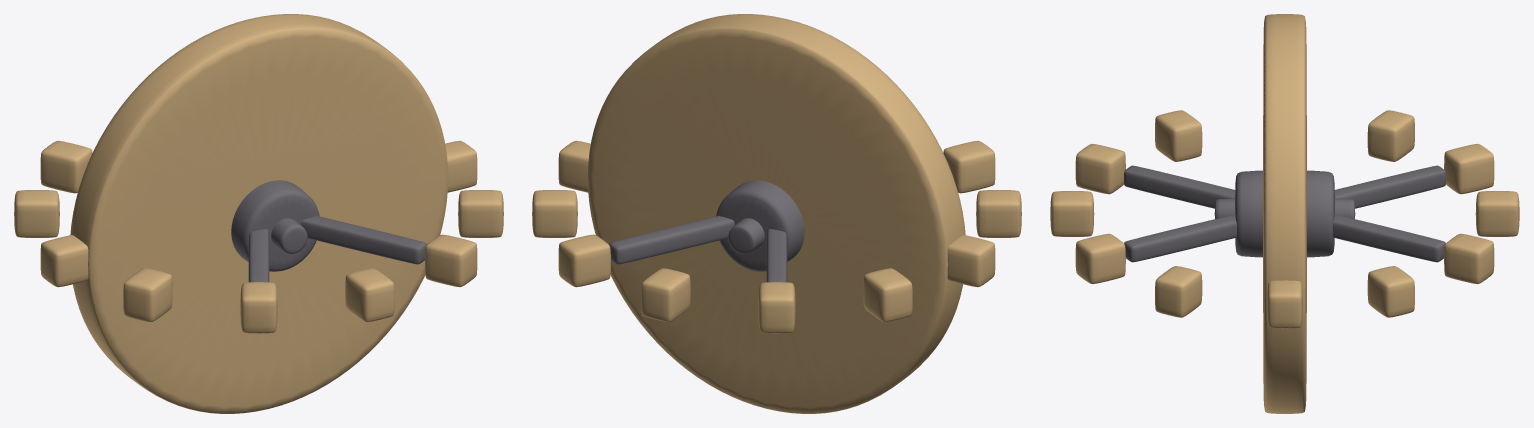
File: clockwork_gear.glb
3 renders of one model, left to right at view 1: azimuth 30°, elevation 25°; view 2: azimuth 150°, elevation 25°; view 3: azimuth 270°, elevation 25°, orthographic. The views are drawn at different scales.
Visible parts, largest first — view 1: gear_disc, gear_hub, spoke_0, gear_axle; view 2: gear_disc, gear_hub, spoke_0, gear_axle; view 3: gear_disc, spoke_0, gear_hub, gear_axle.
Boxes of the visible parts, <box> form: gear_disc: <box>14,14,503,413</box>; gear_hub: <box>231,180,319,271</box>; spoke_0: <box>248,216,426,282</box>; gear_axle: <box>271,218,307,253</box>; gear_disc: <box>532,14,1021,413</box>; gear_hub: <box>716,180,804,271</box>; spoke_0: <box>609,216,787,282</box>; gear_axle: <box>728,218,764,253</box>; gear_disc: <box>1050,14,1519,413</box>; spoke_0: <box>1123,165,1446,262</box>; gear_hub: <box>1235,170,1334,257</box>; gear_axle: <box>1214,198,1355,218</box>.
Bounding box in the file's own units: 2.34 × 1.99 × 2.34.
